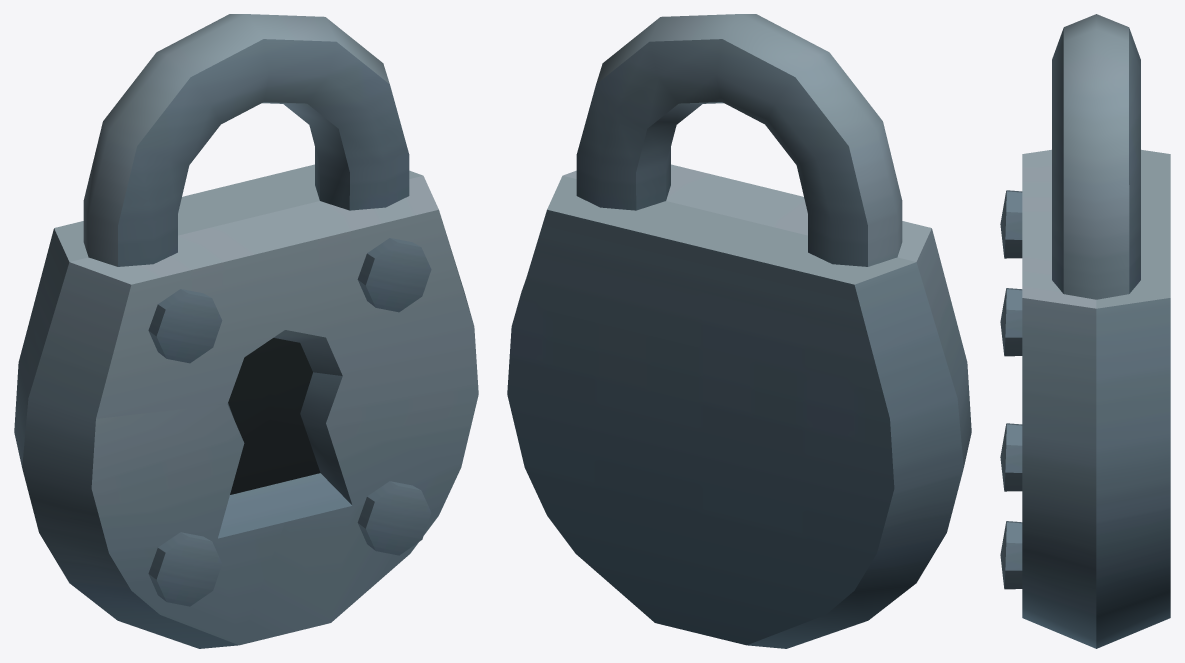
File: lock_B.gltf
3 renders of one model, left to right at view 1: azimuth 30°, elevation 25°; view 2: azimuth 150°, elevation 25°; view 3: azimuth 270°, elevation 25°, orthographic. The views are drawn at different scales.
Visible parts, largest first — view 1: lock_B, lock_B_part; view 2: lock_B, lock_B_part; view 3: lock_B, lock_B_part.
Boxes of the visible parts, <box> form: lock_B: <box>14,164,478,648</box>; lock_B_part: <box>83,14,409,266</box>; lock_B: <box>507,164,971,648</box>; lock_B_part: <box>576,14,902,266</box>; lock_B: <box>1000,149,1170,648</box>; lock_B_part: <box>1052,14,1140,299</box>.
Size of the model in its own units: 0.6626 by 0.8799 by 0.2272.
1 material, 1 textured.
